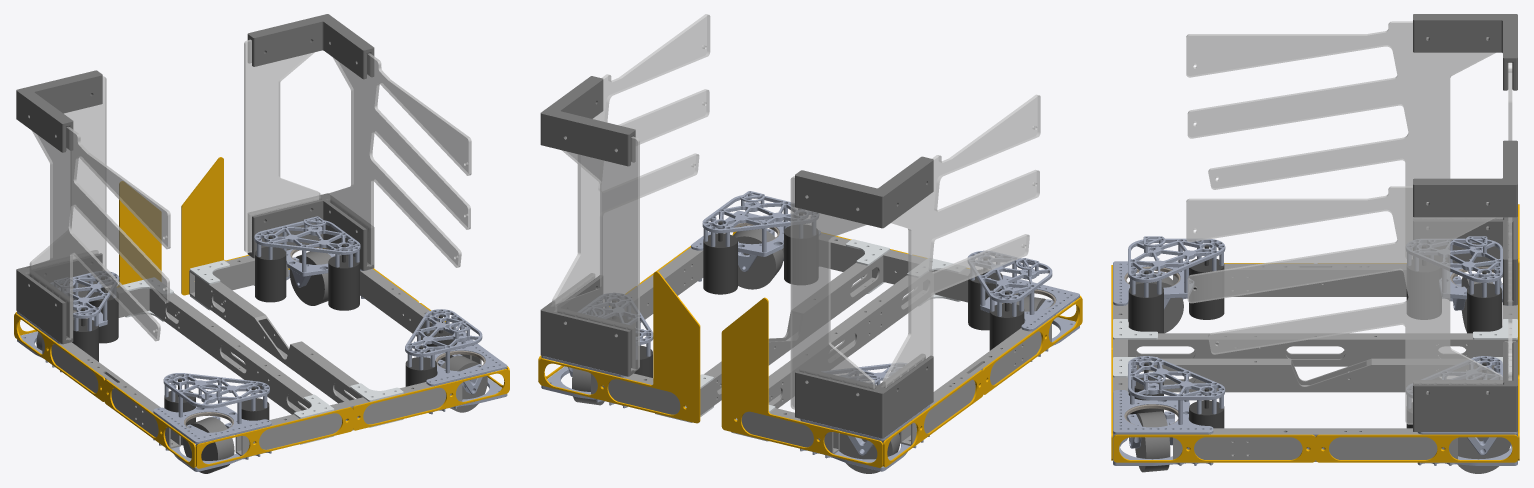
3 renders of one model, left to right at view 1: azimuth 30°, elevation 25°; view 2: azimuth 150°, elevation 25°; view 3: azimuth 270°, elevation 25°, orthographic. The views are drawn at different scales.
Parts seen in each view (by area): view 1: Cage Right Plating, Cage Left Plating, MK4i Master Part V2_Default Falcon 500 Config (×7), Frame Plating Slot Piece Corner Top (×2), Frame Plating Slot Piece Corner Bottom (×2), Cage Back Left Plating, Cage Back Right Plating, {Simplified} Falcon 500 (×6), Drive Base Aluminum Channel (Middle Support Right), Drive Base Aluminum Channel (Middle Support Left), Drive Base Aluminum Channel (Front), Back Left Padding (+10 smaller); view 2: Cage Right Plating, Frame Plating Slot Piece Corner Bottom (×2), Cage Left Plating, Frame Plating Slot Piece Corner Top (×2), MK4i Master Part V2_Default Falcon 500 Config (×8), Cage Back Left Plating, Cage Back Right Plating, Back Left Padding, Back Right Padding, {Simplified} Falcon 500 (×4), Drive Base Aluminum Channel (Middle Support Right), Drive Base Aluminum Channel (Middle Support Left) (+9 smaller); view 3: Cage Left Plating, Cage Right Plating, MK4i Master Part V2_Default Falcon 500 Config (×9), Frame Plating Slot Piece Corner Top (×2), Frame Plating Slot Piece Corner Bottom (×2), Drive Base Aluminum Channel (Middle Support Right), {Simplified} Falcon 500 (×5), Drive Base Aluminum Channel (Middle Support Left), Drive Base Aluminum Channel (Left), Drive Base Aluminum Channel (Right), Part 1 (×3), Left Front Padding (+5 smaller).
Part boxes in pixels (x1,y1,x2,y2): Cage Right Plating: (26,126,170,341); Cage Left Plating: (327,53,471,267); MK4i Master Part V2_Default Falcon 500 Config (×7): (51,219,507,443); Frame Plating Slot Piece Corner Top (×2): (16,14,374,152); Frame Plating Slot Piece Corner Bottom (×2): (16,193,374,344); Cage Back Left Plating: (244,39,320,252); Cage Back Right Plating: (29,76,106,270); {Simplified} Falcon 500 (×6): (72,235,436,420); Drive Base Aluminum Channel (Middle Support Right): (149,289,312,414); Drive Base Aluminum Channel (Middle Support Left): (196,275,362,403); Drive Base Aluminum Channel (Front): (235,381,462,455); Back Left Padding: (181,157,323,295); Cage Right Plating: (882,94,1040,387); Frame Plating Slot Piece Corner Bottom (×2): (540,273,933,438); Cage Left Plating: (552,14,710,307); Frame Plating Slot Piece Corner Top (×2): (540,76,933,228); MK4i Master Part V2_Default Falcon 500 Config (×8): (541,194,1079,471); Cage Back Left Plating: (555,136,639,370); Cage Back Right Plating: (790,176,874,409); Back Left Padding: (539,271,700,423); Back Right Padding: (721,297,882,467); {Simplified} Falcon 500 (×4): (703,212,1024,350); Drive Base Aluminum Channel (Middle Support Right): (768,270,933,408); Drive Base Aluminum Channel (Middle Support Left): (700,255,883,415); Cage Left Plating: (1186,186,1502,424); Cage Right Plating: (1186,21,1502,258); MK4i Master Part V2_Default Falcon 500 Config (×9): (1113,238,1517,465); Frame Plating Slot Piece Corner Top (×2): (1413,14,1517,217); Frame Plating Slot Piece Corner Bottom (×2): (1413,217,1517,431); Drive Base Aluminum Channel (Middle Support Right): (1128,333,1502,366); {Simplified} Falcon 500 (×5): (1128,245,1502,428); Drive Base Aluminum Channel (Middle Support Left): (1128,358,1499,392); Drive Base Aluminum Channel (Left): (1173,428,1457,461); Drive Base Aluminum Channel (Right): (1173,263,1457,296); Part 1 (×3): (1128,272,1509,473); Left Front Padding: (1113,434,1315,462).
Size of the model in its own units: 0.6921 by 0.5613 by 0.6921.
